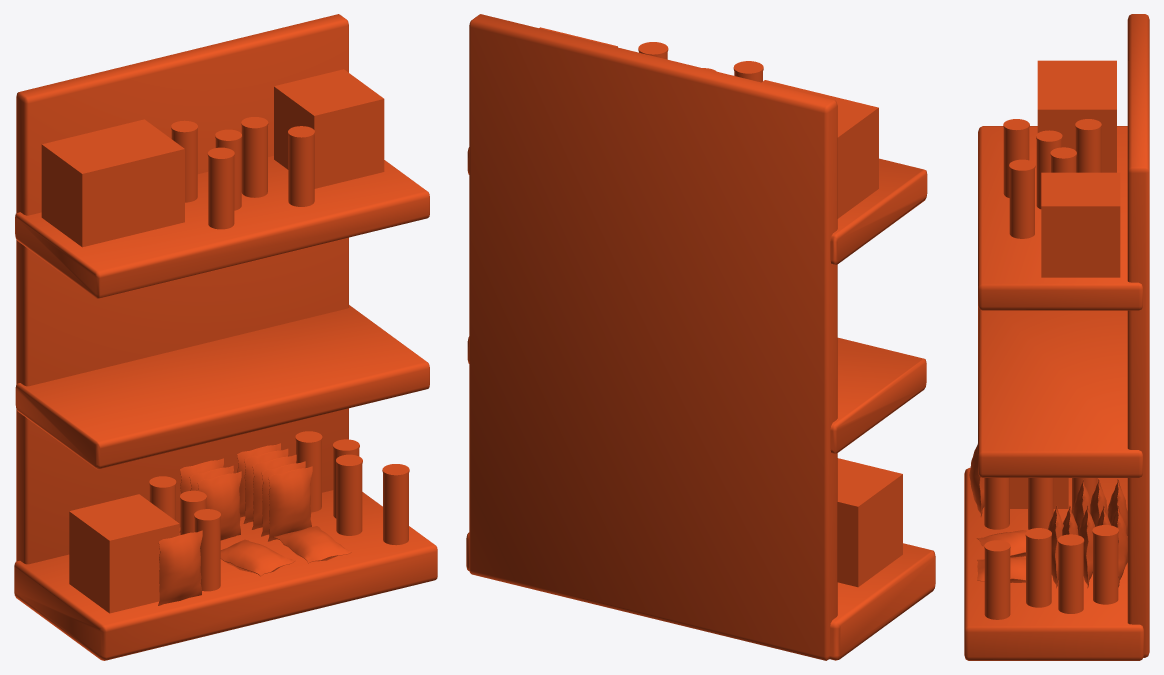
The model's file is RepartoPatatine.fbx.
The picture shows the model from 3 angles, left to right: view 1: azimuth 30°, elevation 25°; view 2: azimuth 150°, elevation 25°; view 3: azimuth 270°, elevation 25°; orthographic projection. The views are drawn at different scales.
Parts seen in each view (by area): view 1: TubettoPringles.011; view 2: TubettoPringles.011; view 3: TubettoPringles.011.
Part boxes in pixels (left/top/right/bottom): TubettoPringles.011: left=14, top=14, right=437, bottom=660; TubettoPringles.011: left=466, top=14, right=935, bottom=660; TubettoPringles.011: left=964, top=14, right=1149, bottom=660.
Bounding box in the file's own units: 199 × 284 × 97.04.
